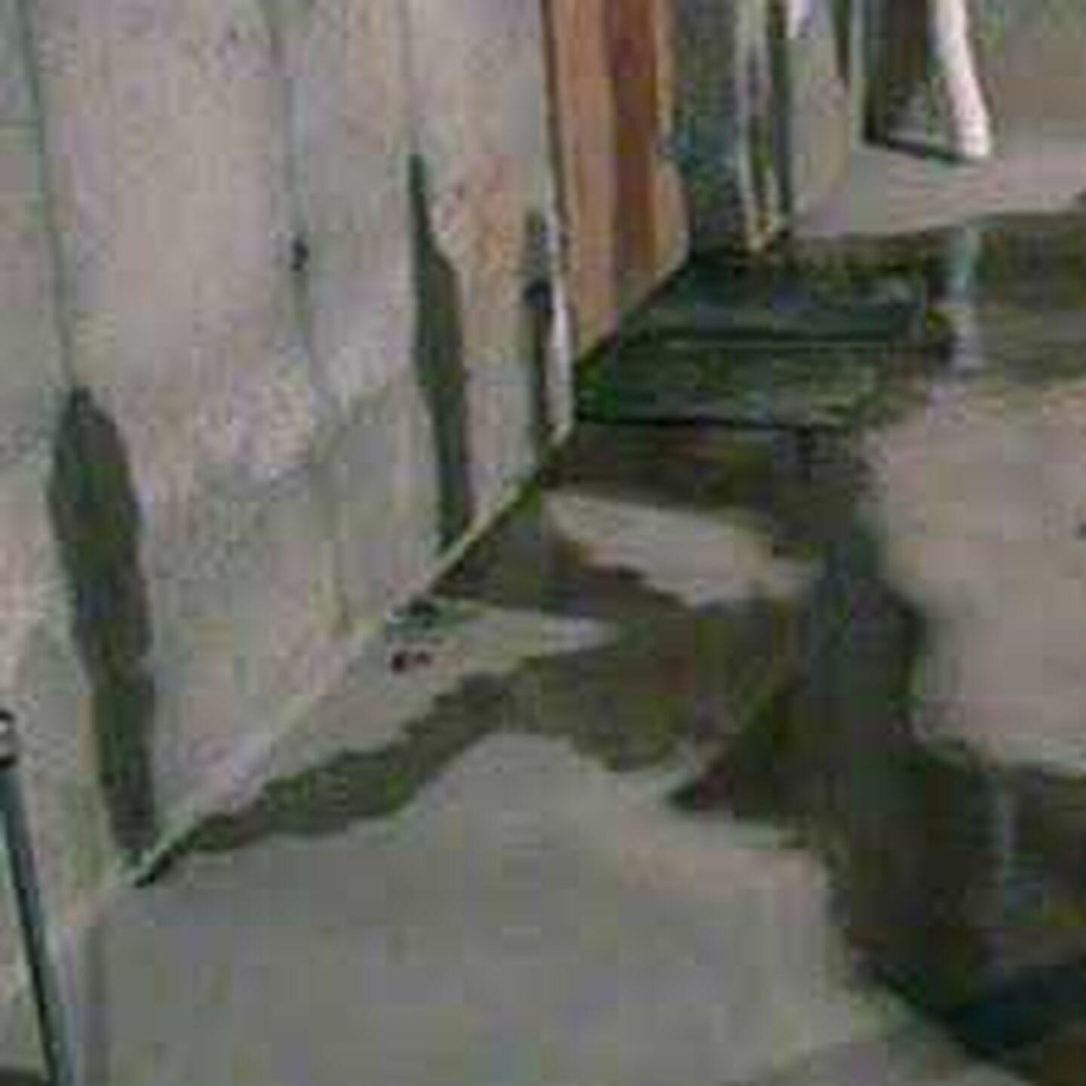water accumulation: (35, 201, 1086, 1086)
